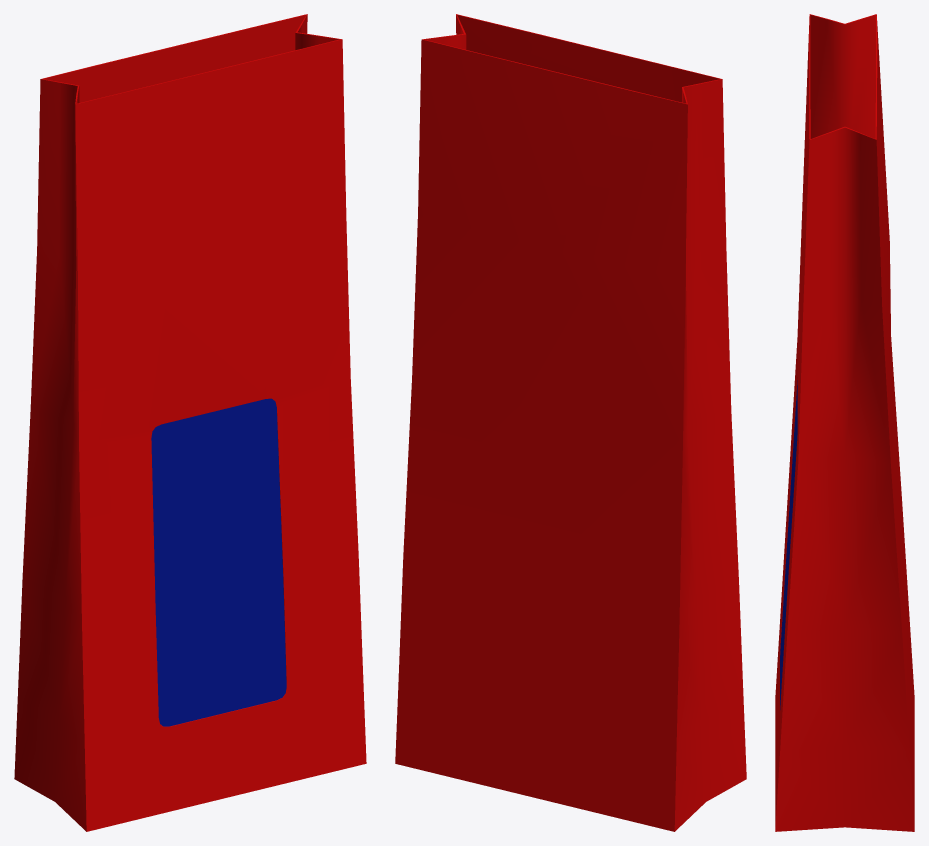
The model's file is SM_Evidence_Package_5.FBX.
3 views of the same model, side by side, from view 1: azimuth 30°, elevation 25°; view 2: azimuth 150°, elevation 25°; view 3: azimuth 270°, elevation 25° (orthographic). The views are drawn at different scales.
Visible parts, largest first — view 1: Evidence_Package_5; view 2: Evidence_Package_5; view 3: Evidence_Package_5.
Part boxes in pixels (x1,y1,x2,y2): Evidence_Package_5: [14, 14, 366, 831]; Evidence_Package_5: [395, 14, 746, 831]; Evidence_Package_5: [775, 14, 914, 831].
Size of the model in its own units: 11.13 by 27.09 by 4.98.
